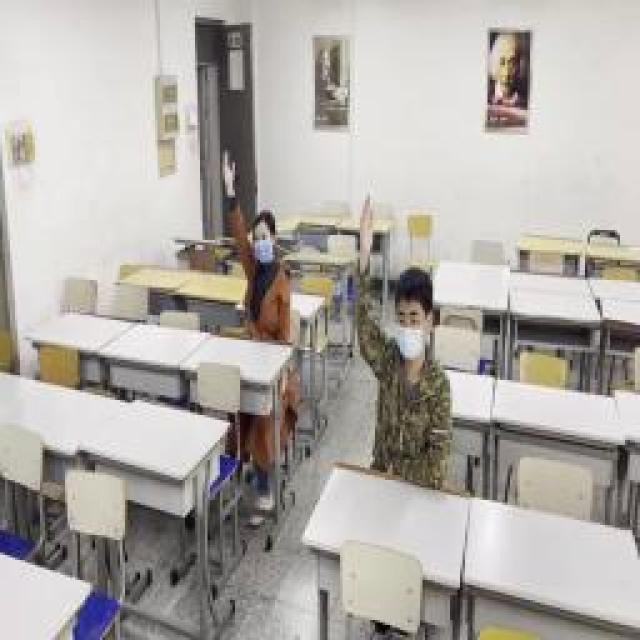study: (355, 195, 450, 470), (222, 150, 290, 335)
